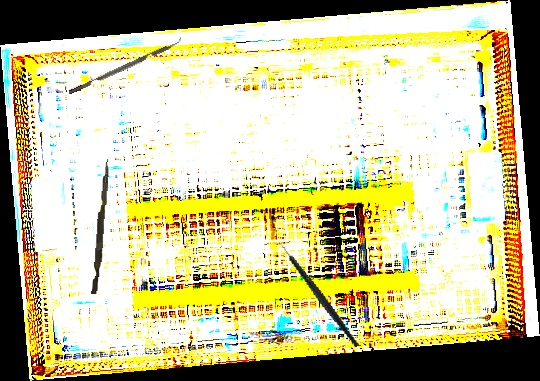Chopper: (270, 227, 360, 362), (65, 34, 185, 95)
Pusher: (91, 158, 110, 295)
